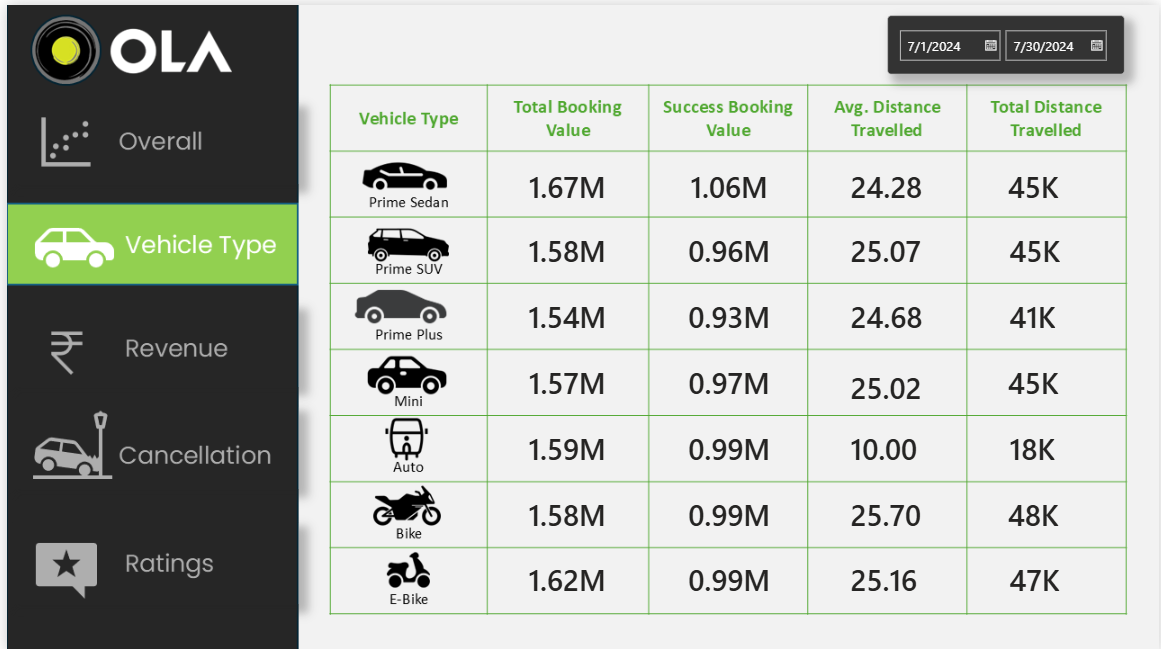

The dashboard page shown, as its layout file describes it:
{"tool":"powerbi","page":{"name":"Vehicle Type","canvas":[1280,720],"ordinal":1},"visuals":[{"type":"actionButton","box":[0,334,324.5,90.7],"z":0},{"type":"actionButton","box":[0,447,324.5,90.7],"z":1000},{"type":"actionButton","box":[0,574.2,324.5,90.7],"z":2000},{"type":"actionButton","box":[0,108.2,324.5,90.7],"z":3000},{"type":"cardVisual","fields":{"Data":["Sum(Bookingscsv.Booking_Value)"]},"box":[549,172,148,57],"z":4000},{"type":"cardVisual","fields":{"Data":["Sum(Bookingscsv.Booking_Value)"]},"box":[548.3,243.3,148.3,56.7],"z":5000},{"type":"cardVisual","fields":{"Data":["Sum(Bookingscsv.Booking_Value)"]},"box":[548.3,316,148.3,56.7],"z":6000},{"type":"cardVisual","fields":{"Data":["Sum(Bookingscsv.Booking_Value)"]},"box":[548.3,608.3,148.3,56.7],"z":7000},{"type":"cardVisual","fields":{"Data":["Sum(Bookingscsv.Booking_Value)"]},"box":[548.3,536.7,148.3,56.7],"z":8000},{"type":"cardVisual","fields":{"Data":["Sum(Bookingscsv.Booking_Value)"]},"box":[548.3,463.3,148.3,56.7],"z":9000},{"type":"cardVisual","fields":{"Data":["Sum(Bookingscsv.Booking_Value)"]},"box":[548.3,390,148.3,56.7],"z":10000},{"type":"cardVisual","fields":{"Data":["Sum(Bookingscsv.Booking_Value)"]},"box":[728.3,171.7,148.3,56.7],"z":11000},{"type":"cardVisual","fields":{"Data":["Sum(Bookingscsv.Booking_Value)"]},"box":[728.3,243.3,148.3,56.7],"z":12000},{"type":"cardVisual","fields":{"Data":["Sum(Bookingscsv.Booking_Value)"]},"box":[728.3,316.7,148.3,56.7],"z":13000},{"type":"cardVisual","fields":{"Data":["Sum(Bookingscsv.Booking_Value)"]},"box":[728.3,390,148.3,56.7],"z":14000},{"type":"cardVisual","fields":{"Data":["Sum(Bookingscsv.Booking_Value)"]},"box":[728.3,463.3,148.3,56.7],"z":15000},{"type":"cardVisual","fields":{"Data":["Sum(Bookingscsv.Booking_Value)"]},"box":[728.3,536.7,148.3,56.7],"z":16000},{"type":"cardVisual","fields":{"Data":["Sum(Bookingscsv.Booking_Value)"]},"box":[728.3,608.3,148.3,56.7],"z":17000},{"type":"cardVisual","fields":{"Data":["Avg(Bookingscsv.Ride_Distance)"]},"box":[903.3,171.7,148.3,56.7],"z":18000},{"type":"cardVisual","fields":{"Data":["Avg(Bookingscsv.Ride_Distance)"]},"box":[903.3,243.3,148.3,56.7],"z":19000},{"type":"cardVisual","fields":{"Data":["Avg(Bookingscsv.Ride_Distance)"]},"box":[903.3,316.7,148.3,56.7],"z":20000},{"type":"cardVisual","fields":{"Data":["Avg(Bookingscsv.Ride_Distance)"]},"box":[903.3,395,148.3,56.7],"z":21000},{"type":"cardVisual","fields":{"Data":["Avg(Bookingscsv.Ride_Distance)"]},"box":[903.3,463.3,148.3,56.7],"z":22000},{"type":"cardVisual","fields":{"Data":["Avg(Bookingscsv.Ride_Distance)"]},"box":[903.3,536.7,148.3,56.7],"z":23000},{"type":"cardVisual","fields":{"Data":["Avg(Bookingscsv.Ride_Distance)"]},"box":[903.3,608.3,148.3,56.7],"z":24000},{"type":"cardVisual","fields":{"Data":["Sum(Bookingscsv.Ride_Distance)"]},"box":[1078.3,171.7,148.3,56.7],"z":25000},{"type":"cardVisual","fields":{"Data":["Sum(Bookingscsv.Ride_Distance)"]},"box":[1080,243.3,148.3,56.7],"z":26000},{"type":"cardVisual","fields":{"Data":["Sum(Bookingscsv.Ride_Distance)"]},"box":[1080,316.7,148.3,56.7],"z":27000},{"type":"cardVisual","fields":{"Data":["Sum(Bookingscsv.Ride_Distance)"]},"box":[1078.3,390,148.3,56.7],"z":28000},{"type":"cardVisual","fields":{"Data":["Sum(Bookingscsv.Ride_Distance)"]},"box":[1080,463.3,148.3,56.7],"z":29000},{"type":"cardVisual","fields":{"Data":["Sum(Bookingscsv.Ride_Distance)"]},"box":[1078.3,536.7,148.3,56.7],"z":30000},{"type":"cardVisual","fields":{"Data":["Sum(Bookingscsv.Ride_Distance)"]},"box":[1080,608.3,148.3,56.7],"z":31000},{"type":"slicer","fields":{"Values":["Bookingscsv.Date"]},"box":[978.3,11.7,263.3,65],"z":32000}]}

Visuals, with their boxes in screenshot pixels (x1, y1, x2, y2), scaled from the page's 1280x720 canvas onto the 1161x649 screenshot:
actionButton: pyautogui.locateOnScreen(0, 301, 294, 383)
actionButton: pyautogui.locateOnScreen(0, 403, 294, 485)
actionButton: pyautogui.locateOnScreen(0, 518, 294, 599)
actionButton: pyautogui.locateOnScreen(0, 98, 294, 179)
cardVisual - Sum(Bookingscsv.Booking_Value): pyautogui.locateOnScreen(498, 155, 632, 206)
cardVisual - Sum(Bookingscsv.Booking_Value): pyautogui.locateOnScreen(497, 219, 632, 270)
cardVisual - Sum(Bookingscsv.Booking_Value): pyautogui.locateOnScreen(497, 285, 632, 336)
cardVisual - Sum(Bookingscsv.Booking_Value): pyautogui.locateOnScreen(497, 548, 632, 599)
cardVisual - Sum(Bookingscsv.Booking_Value): pyautogui.locateOnScreen(497, 484, 632, 535)
cardVisual - Sum(Bookingscsv.Booking_Value): pyautogui.locateOnScreen(497, 418, 632, 469)
cardVisual - Sum(Bookingscsv.Booking_Value): pyautogui.locateOnScreen(497, 352, 632, 403)
cardVisual - Sum(Bookingscsv.Booking_Value): pyautogui.locateOnScreen(661, 155, 795, 206)
cardVisual - Sum(Bookingscsv.Booking_Value): pyautogui.locateOnScreen(661, 219, 795, 270)
cardVisual - Sum(Bookingscsv.Booking_Value): pyautogui.locateOnScreen(661, 285, 795, 337)
cardVisual - Sum(Bookingscsv.Booking_Value): pyautogui.locateOnScreen(661, 352, 795, 403)
cardVisual - Sum(Bookingscsv.Booking_Value): pyautogui.locateOnScreen(661, 418, 795, 469)
cardVisual - Sum(Bookingscsv.Booking_Value): pyautogui.locateOnScreen(661, 484, 795, 535)
cardVisual - Sum(Bookingscsv.Booking_Value): pyautogui.locateOnScreen(661, 548, 795, 599)
cardVisual - Avg(Bookingscsv.Ride_Distance): pyautogui.locateOnScreen(819, 155, 954, 206)
cardVisual - Avg(Bookingscsv.Ride_Distance): pyautogui.locateOnScreen(819, 219, 954, 270)
cardVisual - Avg(Bookingscsv.Ride_Distance): pyautogui.locateOnScreen(819, 285, 954, 337)
cardVisual - Avg(Bookingscsv.Ride_Distance): pyautogui.locateOnScreen(819, 356, 954, 407)
cardVisual - Avg(Bookingscsv.Ride_Distance): pyautogui.locateOnScreen(819, 418, 954, 469)
cardVisual - Avg(Bookingscsv.Ride_Distance): pyautogui.locateOnScreen(819, 484, 954, 535)
cardVisual - Avg(Bookingscsv.Ride_Distance): pyautogui.locateOnScreen(819, 548, 954, 599)
cardVisual - Sum(Bookingscsv.Ride_Distance): pyautogui.locateOnScreen(978, 155, 1113, 206)
cardVisual - Sum(Bookingscsv.Ride_Distance): pyautogui.locateOnScreen(980, 219, 1114, 270)
cardVisual - Sum(Bookingscsv.Ride_Distance): pyautogui.locateOnScreen(980, 285, 1114, 337)
cardVisual - Sum(Bookingscsv.Ride_Distance): pyautogui.locateOnScreen(978, 352, 1113, 403)
cardVisual - Sum(Bookingscsv.Ride_Distance): pyautogui.locateOnScreen(980, 418, 1114, 469)
cardVisual - Sum(Bookingscsv.Ride_Distance): pyautogui.locateOnScreen(978, 484, 1113, 535)
cardVisual - Sum(Bookingscsv.Ride_Distance): pyautogui.locateOnScreen(980, 548, 1114, 599)
slicer - Bookingscsv.Date: pyautogui.locateOnScreen(887, 11, 1126, 69)
